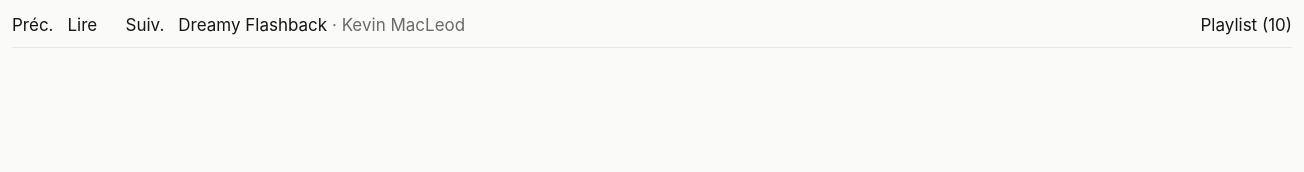
Test: MusicPlayer › recule d’une piste et reboucle sur la dernière
Click the button with aria-label "Piste précédente". click: click(33, 26)
box: left=12, top=12, right=54, bottom=39
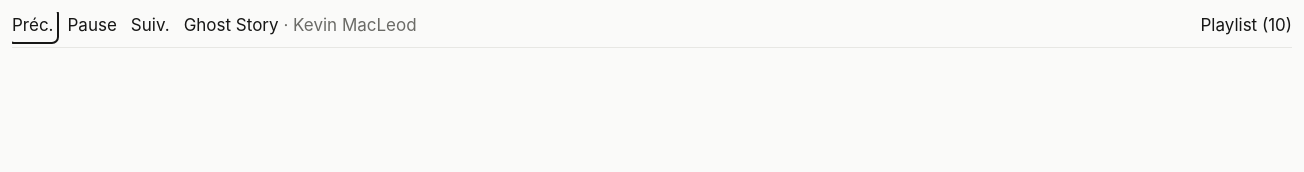
Result: the element titled "Ghost Story" is shown at left=184, top=12, right=417, bottom=39
